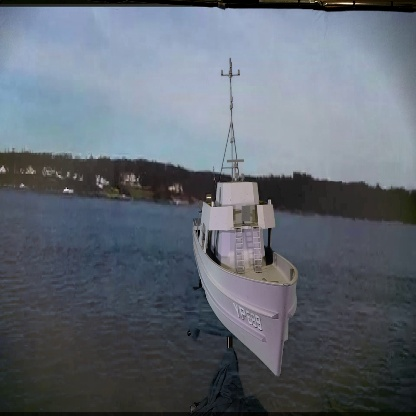YP689: (191, 62, 300, 377)
